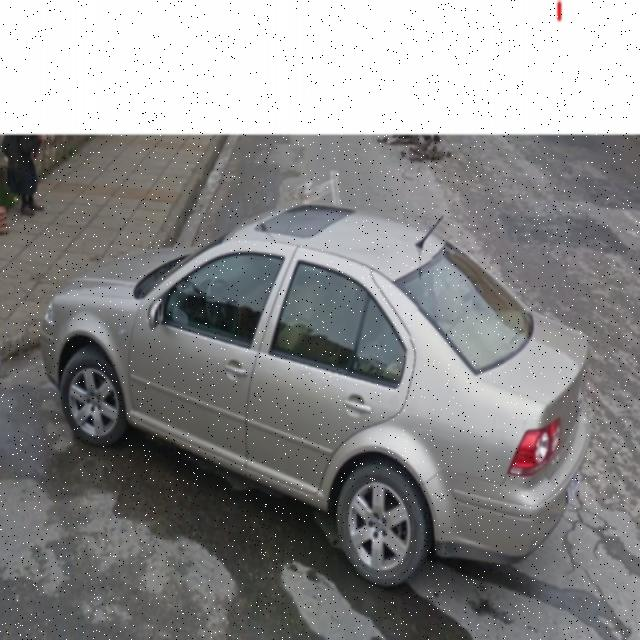cars: (49, 198, 599, 588)
